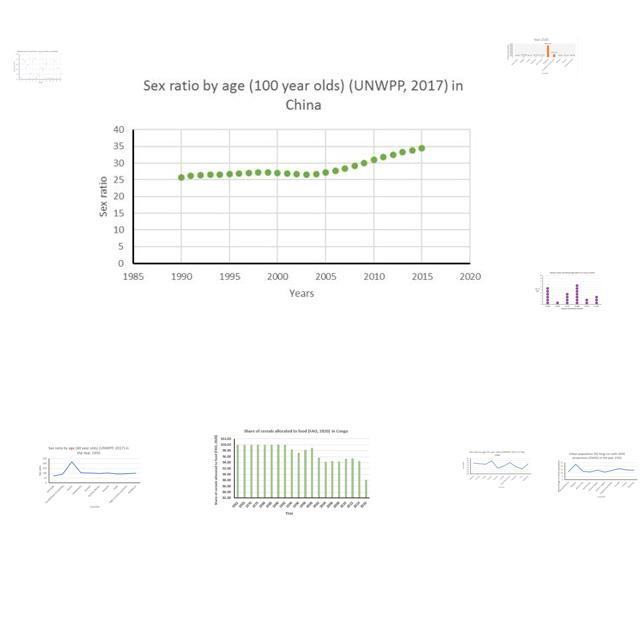Graph: (86, 71, 485, 309), (211, 426, 373, 517), (36, 445, 141, 511), (556, 451, 639, 499), (505, 36, 578, 76), (462, 449, 532, 489), (533, 271, 603, 311), (13, 50, 63, 84)
